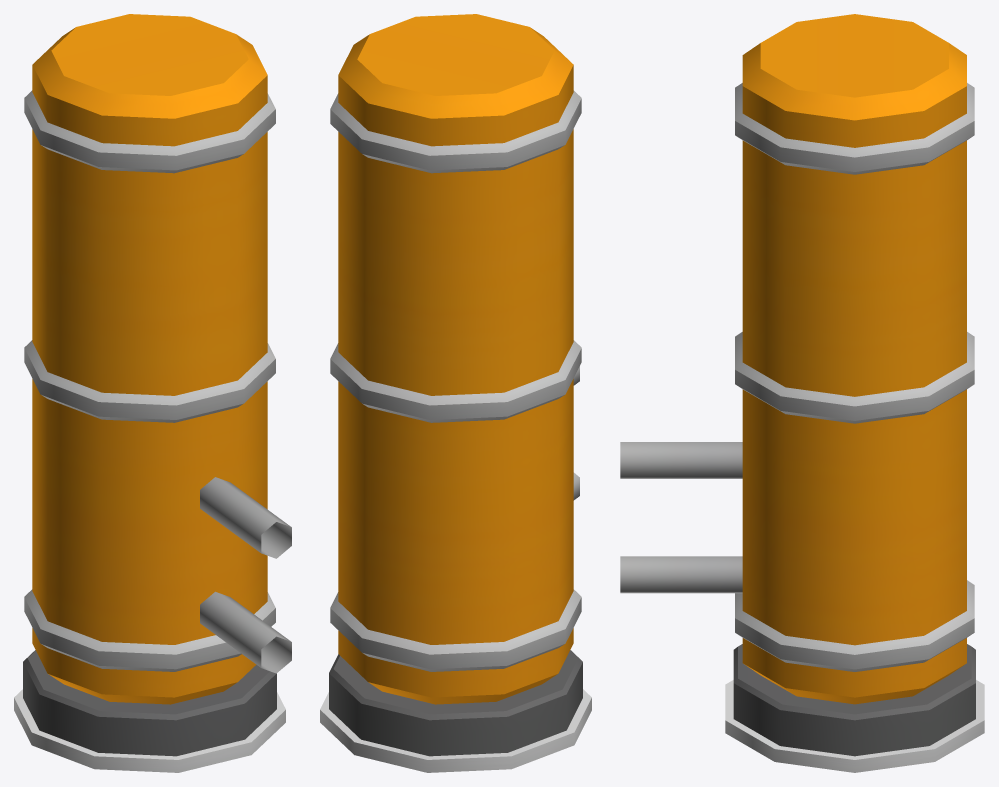
File: GasTank_1_H.glb
3 views of the same model, side by side, from view 1: azimuth 30°, elevation 25°; view 2: azimuth 150°, elevation 25°; view 3: azimuth 270°, elevation 25° (orthographic).
Parts seen in each view (by area): view 1: GasTank_1_H; view 2: GasTank_1_H; view 3: GasTank_1_H.
Boxes of the visible parts, <box> form: GasTank_1_H: <box>14,14,291,772</box>; GasTank_1_H: <box>320,14,591,772</box>; GasTank_1_H: <box>620,14,984,772</box>.
Bounding box in the file's own units: 2.84 × 7.58 × 3.79.
2 materials, 2 textured.
